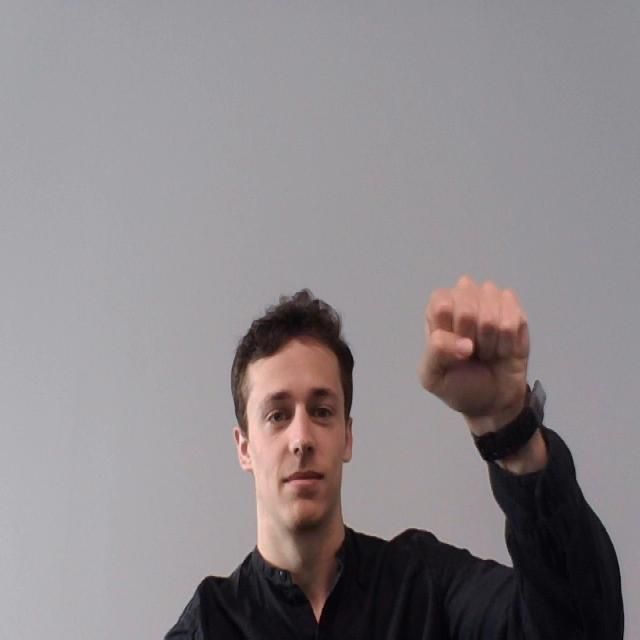stop: (407, 266, 540, 428)
